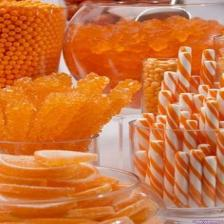orange: (2, 0, 224, 224)
